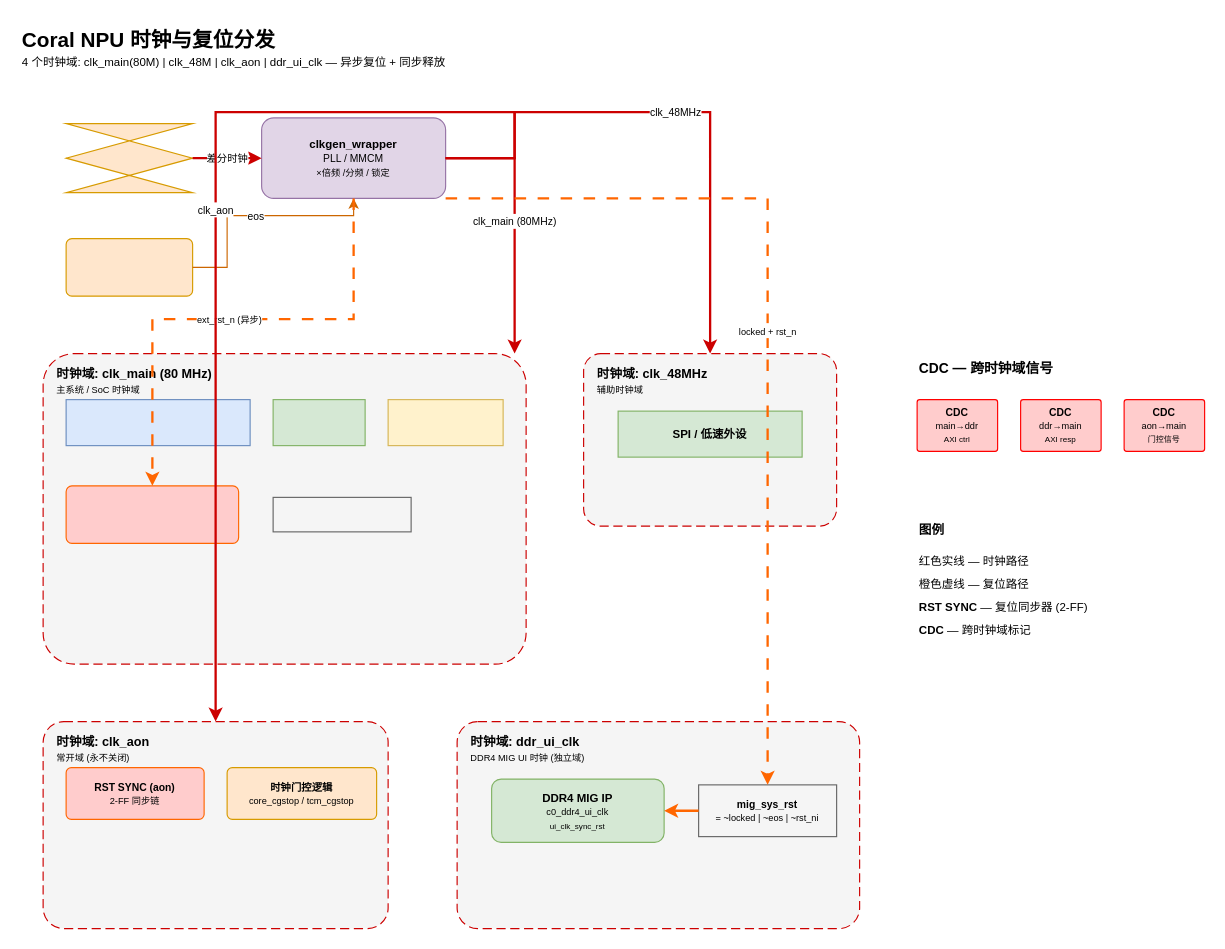
Image size: 1225x949. Some labels were removed from this diagram. The shapes that lost their labels are listed below. From the top down, each one's centre as x and y in pixels, then its label:
At point (129, 157): "外部晶振 clk_p/n (差分)".
At point (129, 266): "STARTUPE3 EOS + GSR".
At point (157, 422): "coralnpu_soc 全部 TileLink 外设".
At point (318, 422): "uart ×2".
At point (445, 422): "rom / sram".
At point (152, 514): "RST SYNC (main) 2-FF 同步链 | 异步置位 同步释放".
At point (341, 514): "rst_n (主域)".
